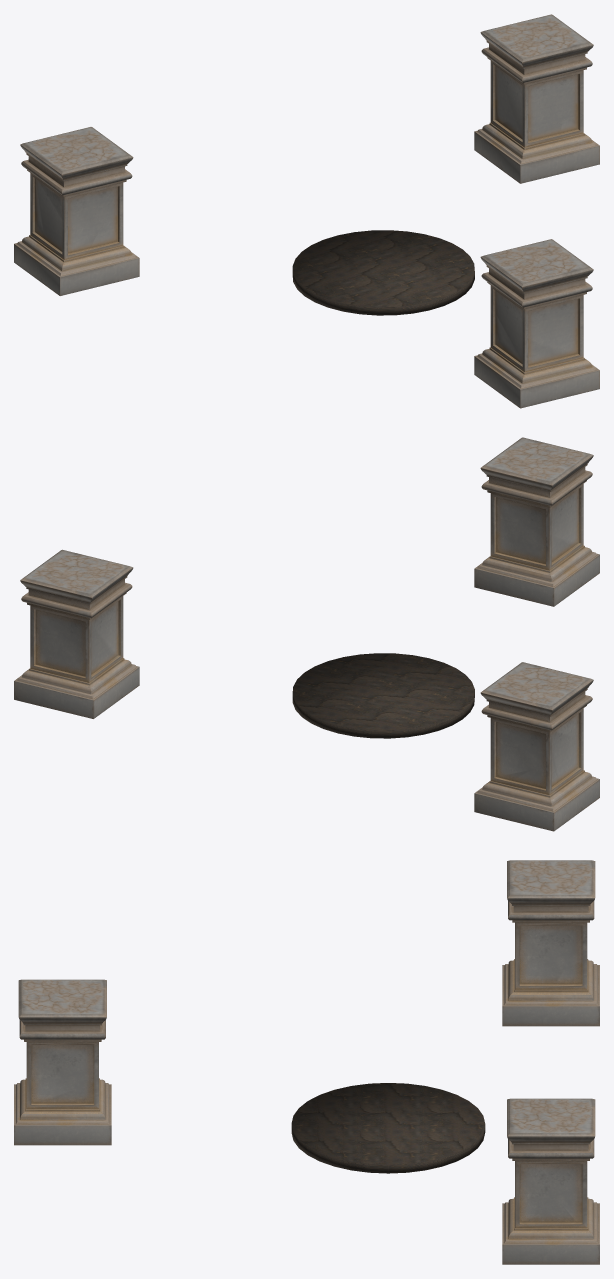
The model's file is PedestalAndCenterMid.glb.
3 views of the same model, one above another, from view 1: azimuth 30°, elevation 25°; view 2: azimuth 150°, elevation 25°; view 3: azimuth 270°, elevation 25° (orthographic). The views are drawn at different scales.
Parts seen in each view (by area): view 1: Pedestal, Pedestal.002, Pedestal.001, CenterMid; view 2: Pedestal, Pedestal.001, Pedestal.002, CenterMid; view 3: Pedestal.001, Pedestal, Pedestal.002, CenterMid.
Boxes of the visible parts, x1,y1,x2,y2 form: Pedestal: (474, 239, 599, 408); Pedestal.002: (474, 14, 599, 183); Pedestal.001: (14, 127, 139, 295); CenterMid: (292, 230, 474, 315); Pedestal: (474, 437, 599, 606); Pedestal.001: (474, 662, 599, 831); Pedestal.002: (14, 549, 139, 718); CenterMid: (292, 653, 474, 738); Pedestal.001: (502, 860, 599, 1026); Pedestal: (14, 979, 111, 1145); Pedestal.002: (502, 1098, 599, 1264); CenterMid: (291, 1083, 485, 1173).
Size of the model in its own units: 135 by 30.64 by 120.
Materials: 2 (2 with a texture image).
